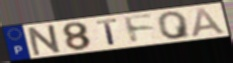8: (61, 21, 94, 52)
A: (191, 7, 229, 38)
F: (122, 13, 158, 46)
N: (26, 23, 64, 57)
Q: (156, 10, 194, 41)
T: (95, 18, 120, 47)
